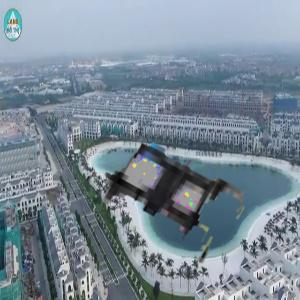drone: (76, 109, 247, 280)
